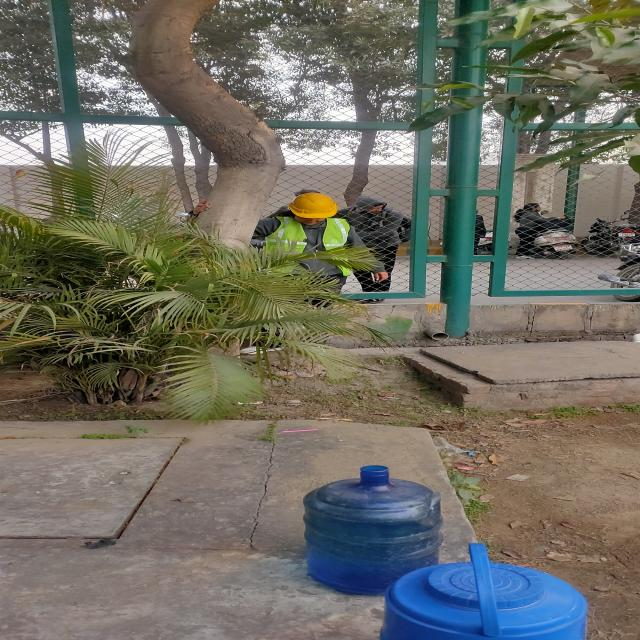safe: (259, 192, 357, 273)
